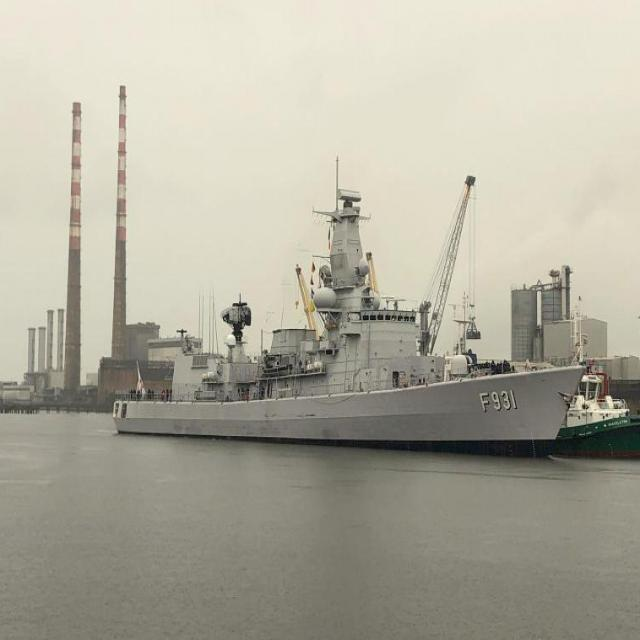Fragata: (115, 181, 594, 471)
